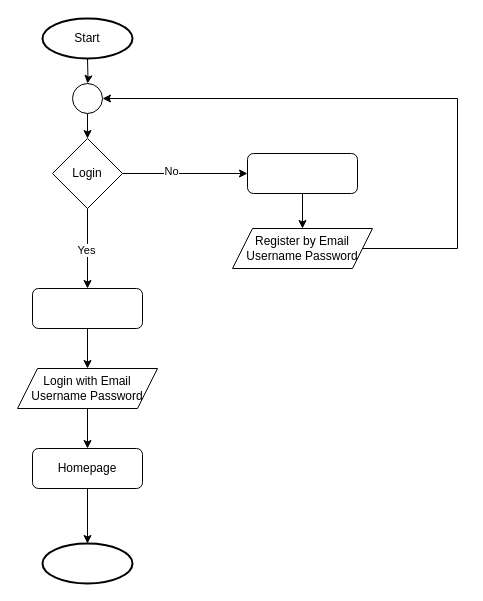
The diagram is 483 pixels wide and 601 high, and some of its shapes have lost their labels. Each missing label, with the centre of its shape:
End: the point at 87,563
Login Page: the point at 87,308
Register: the point at 302,173
